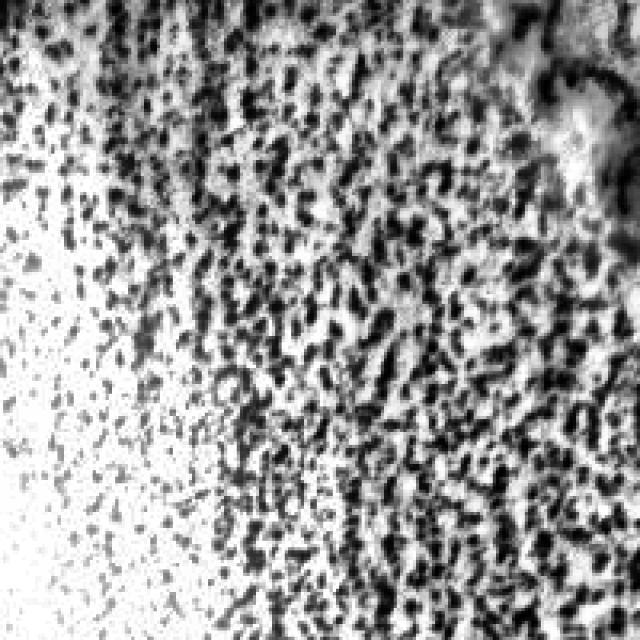Rolled_in_Scale: (3, 29, 624, 630)
Scratches: (486, 0, 630, 214)
